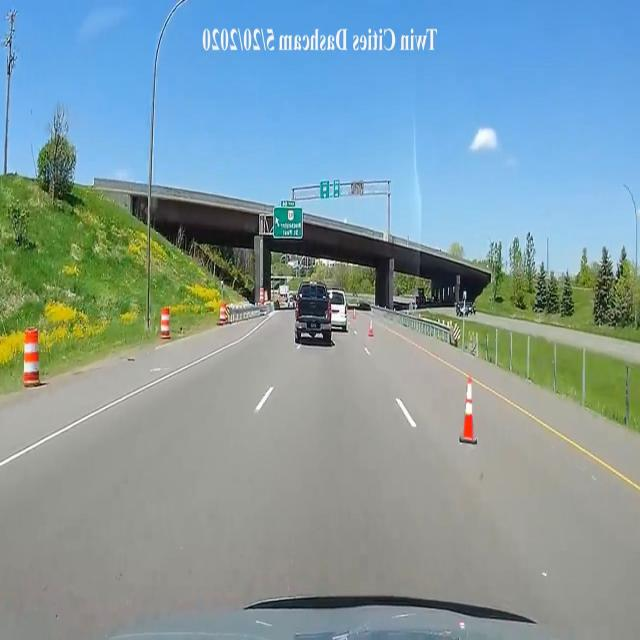cone: (452, 374, 481, 446), (367, 316, 374, 341)
